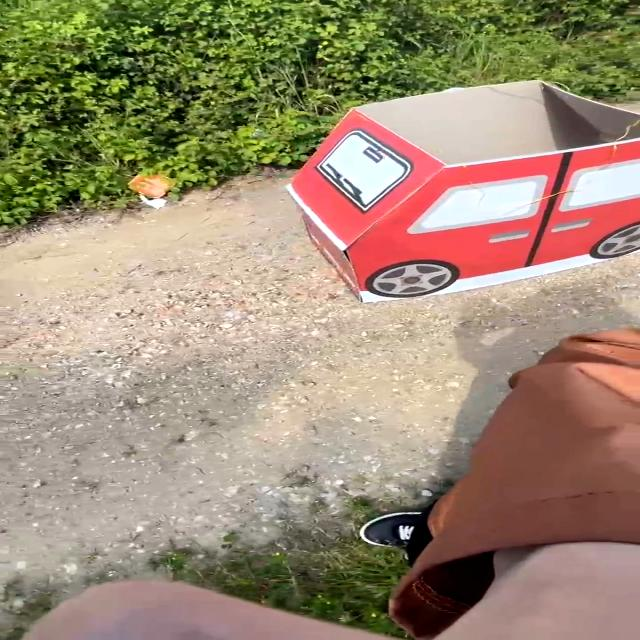red_car: (210, 63, 640, 305)
